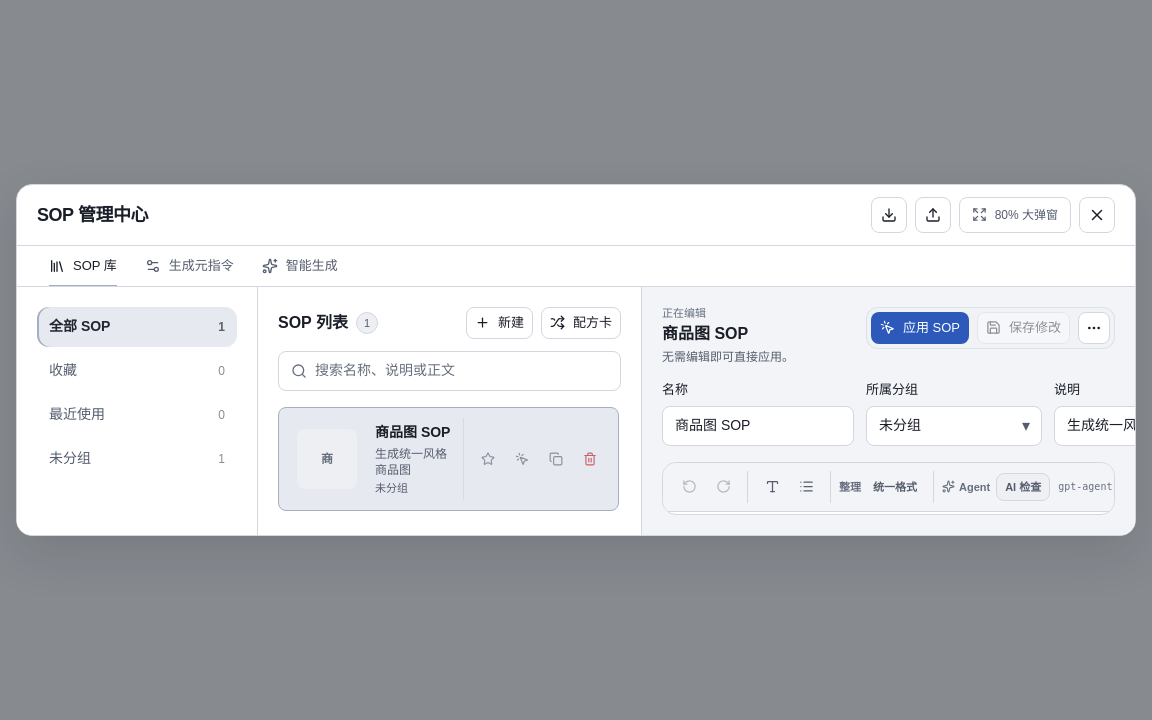
Test: SopManagementCenter apply and save actions › loads a generation record into the form for editing
(page scrolled)
Click the tab "智能生成": (300, 266) [250, 246, 350, 286]
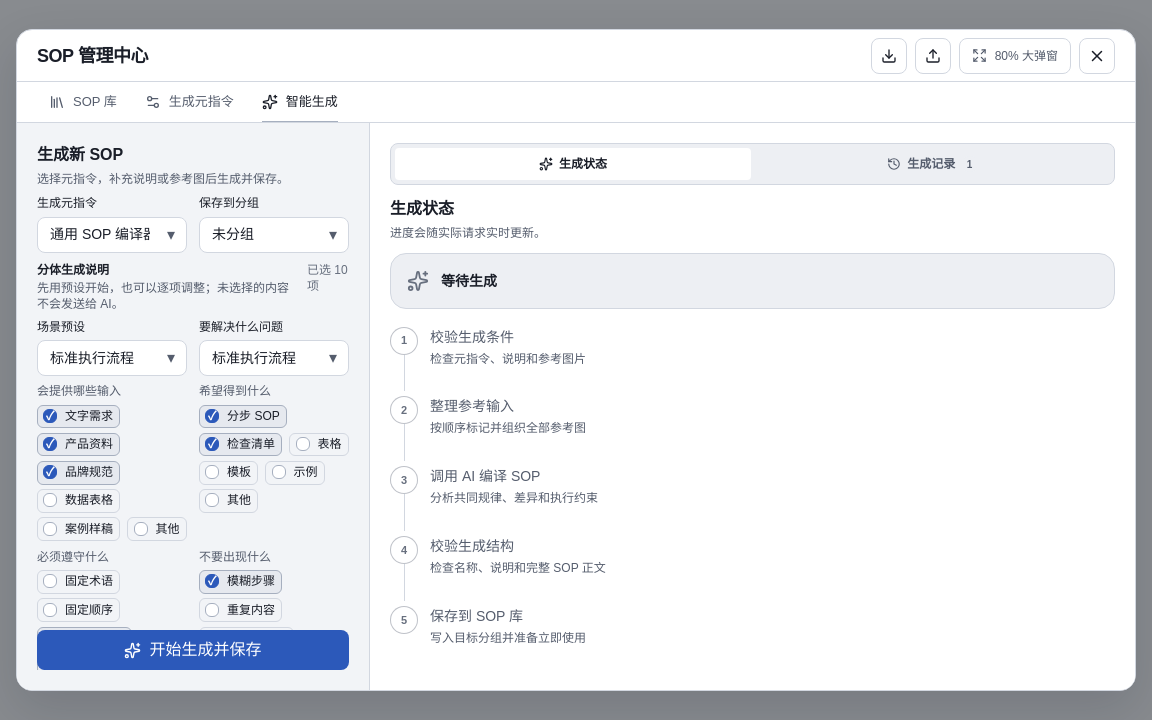
Click the tab "生成记录 1": (932, 164) [754, 148, 1110, 180]
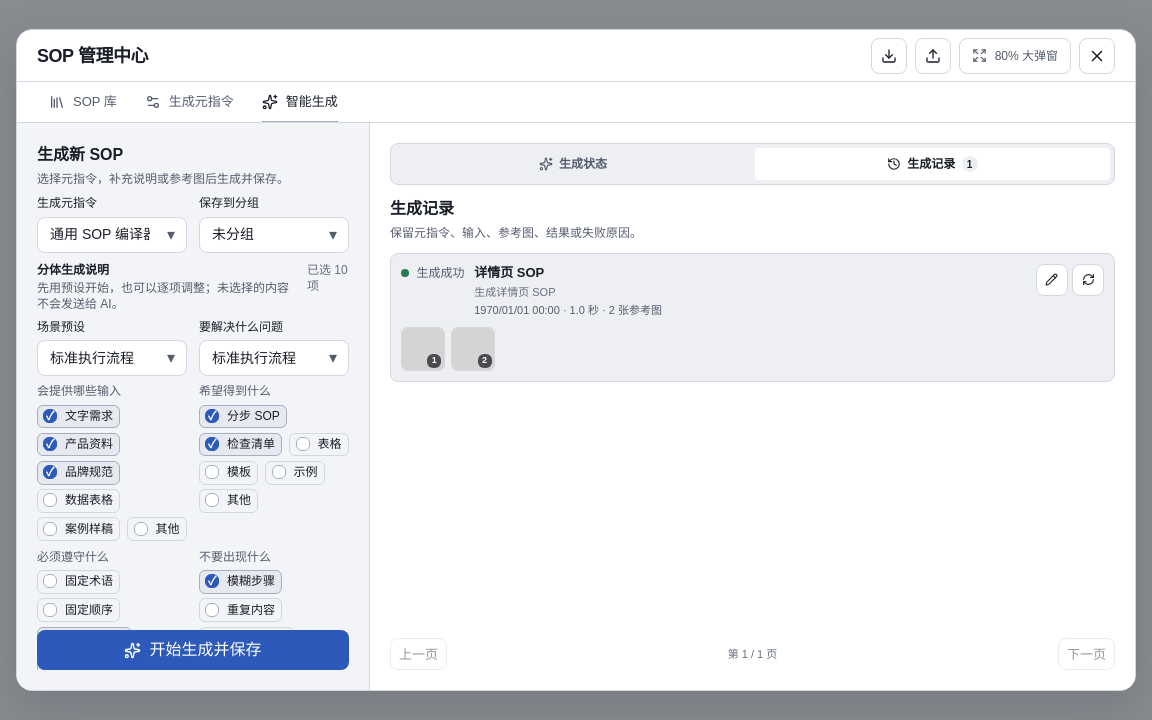
Click the button named "编辑生成记录 详情页 SOP": (1052, 279) [1036, 263, 1068, 295]
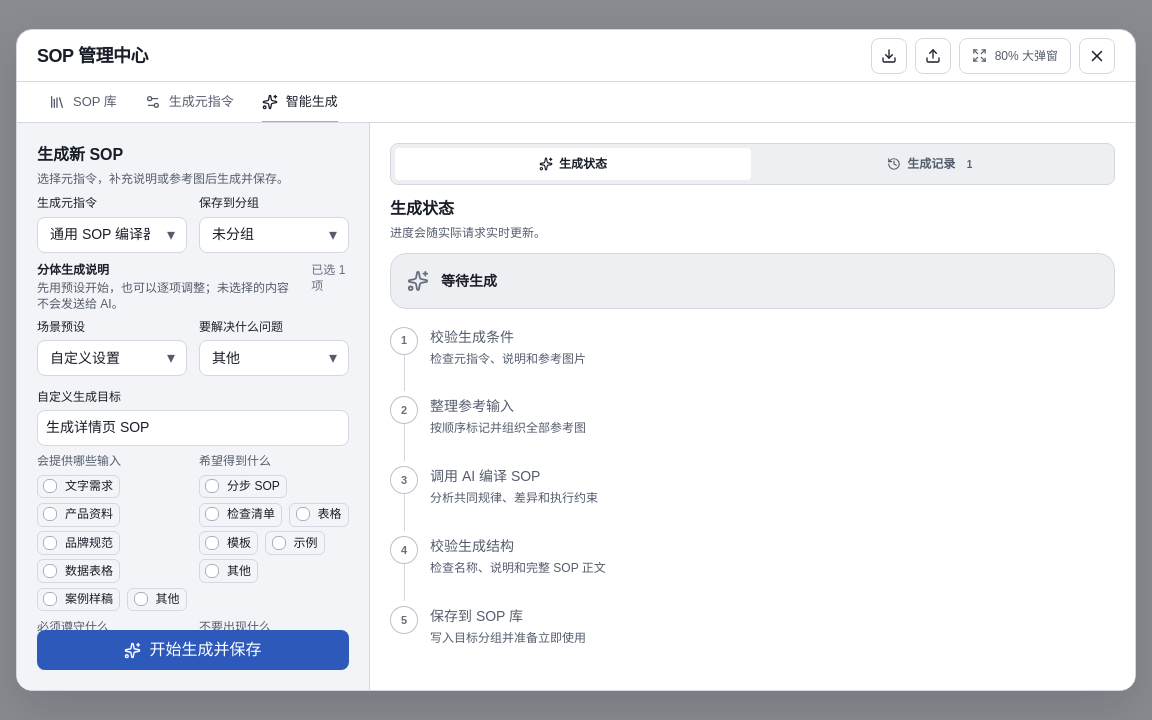
Now the element showing "要解决什么问题 ▾" holds "其他", box [199, 319, 349, 376]
Now the element showing "自定义生成目标" holds "生成详情页 SOP", box [37, 390, 349, 446]
